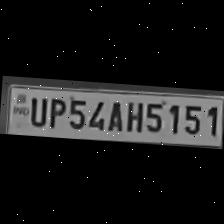1: (202, 103, 222, 137), (163, 100, 181, 134)
4: (86, 97, 106, 131)
5: (178, 100, 202, 135), (142, 99, 164, 134), (66, 96, 86, 130)
A: (104, 98, 124, 132)
H: (122, 98, 144, 133)
P: (46, 94, 64, 130)
U: (26, 94, 46, 128)
